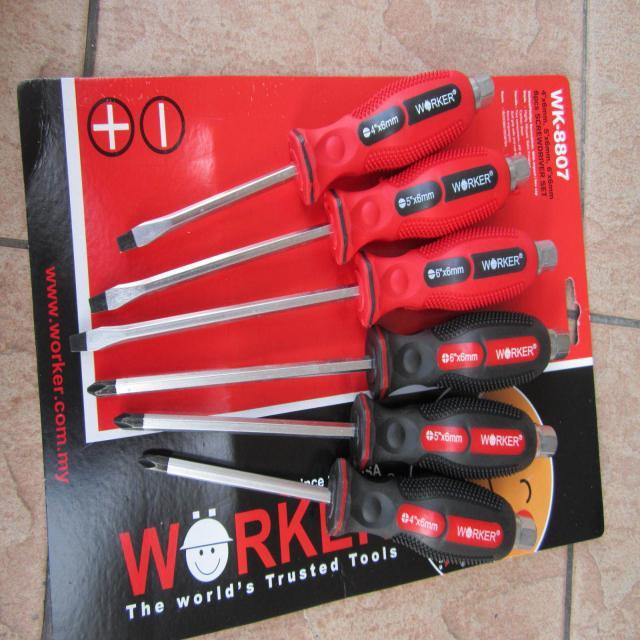screwdriver: (86, 142, 534, 318), (116, 68, 501, 258), (66, 226, 558, 360), (85, 314, 575, 412), (136, 444, 521, 562), (109, 390, 569, 483)
